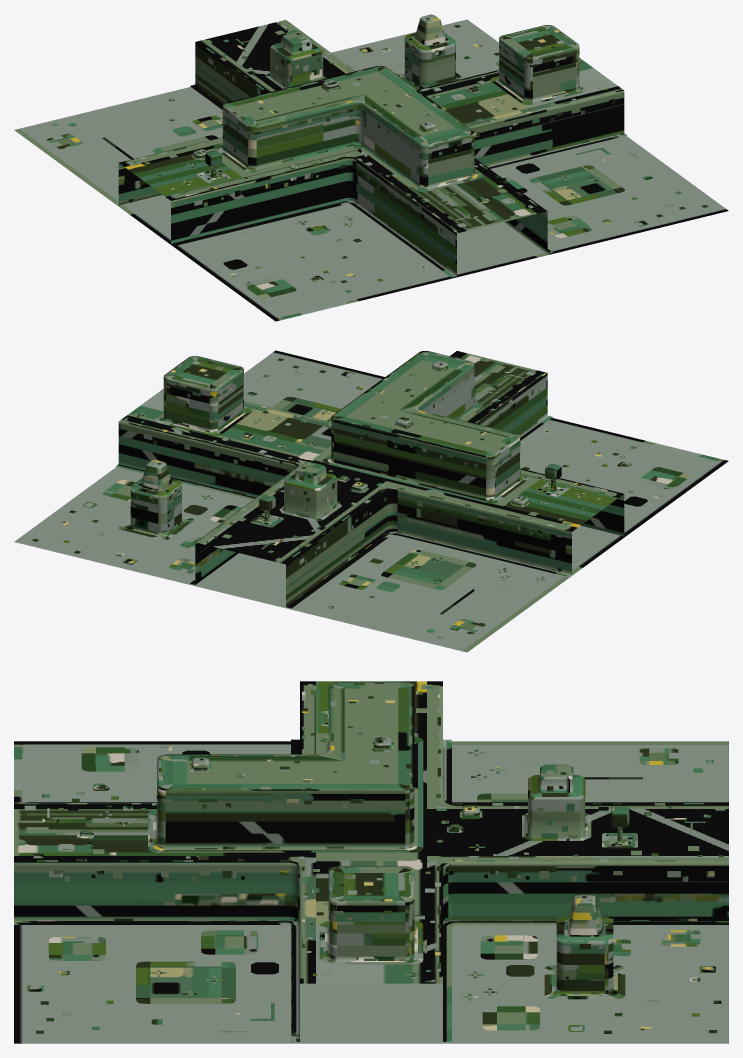
The model's file is C_cave2_03.fbx.
The picture shows the model from 3 angles, top to bottom: view 1: azimuth 30°, elevation 25°; view 2: azimuth 150°, elevation 25°; view 3: azimuth 270°, elevation 25°; orthographic projection. The views are drawn at different scales.
Visible parts, largest first — view 1: C_cave2_03.001; view 2: C_cave2_03.001; view 3: C_cave2_03.001.
Part boxes in pixels (bbox=[...]): C_cave2_03.001: bbox=[14, 14, 728, 321]; C_cave2_03.001: bbox=[14, 350, 728, 652]; C_cave2_03.001: bbox=[14, 681, 728, 1043].
Bounding box in the file's own units: 50 × 9.88 × 50.
